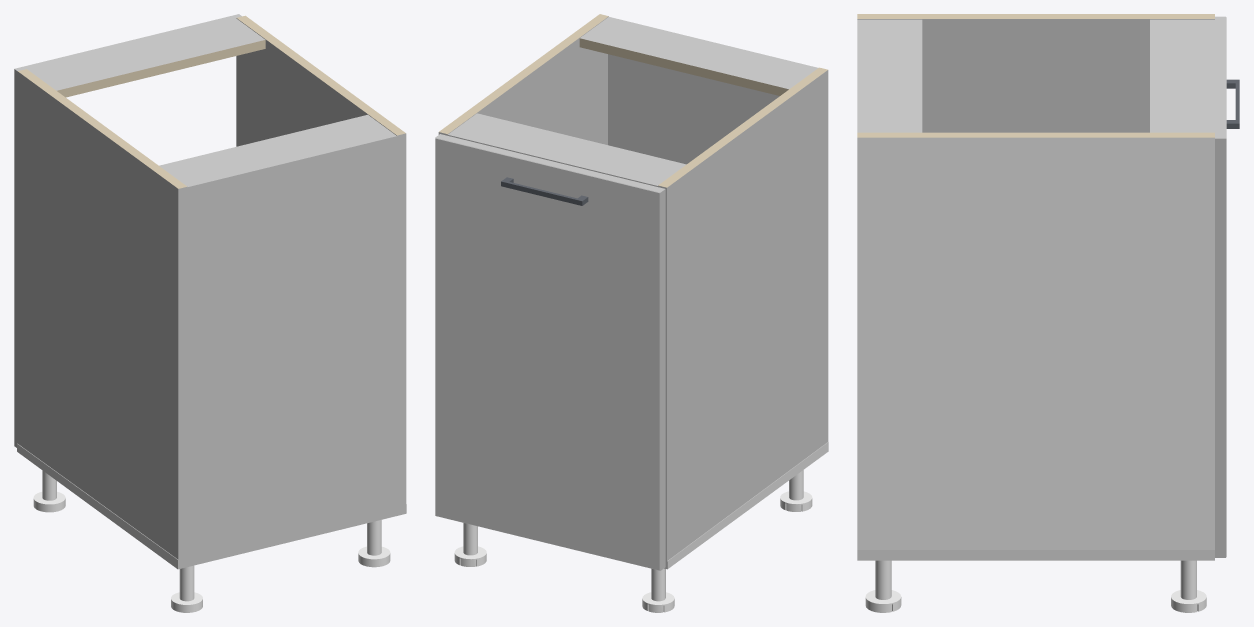
The picture shows the model from 3 angles, left to right: view 1: azimuth 30°, elevation 25°; view 2: azimuth 150°, elevation 25°; view 3: azimuth 270°, elevation 25°; orthographic projection. The views are drawn at different scales.
Parts seen in each view (by area): view 1: Model; view 2: Model; view 3: Model.
Boxes of the visible parts, <box> form: Model: <box>14,14,406,612</box>; Model: <box>435,14,828,612</box>; Model: <box>857,14,1239,612</box>.
Bounding box in the file's own units: 452 × 813 × 588.
